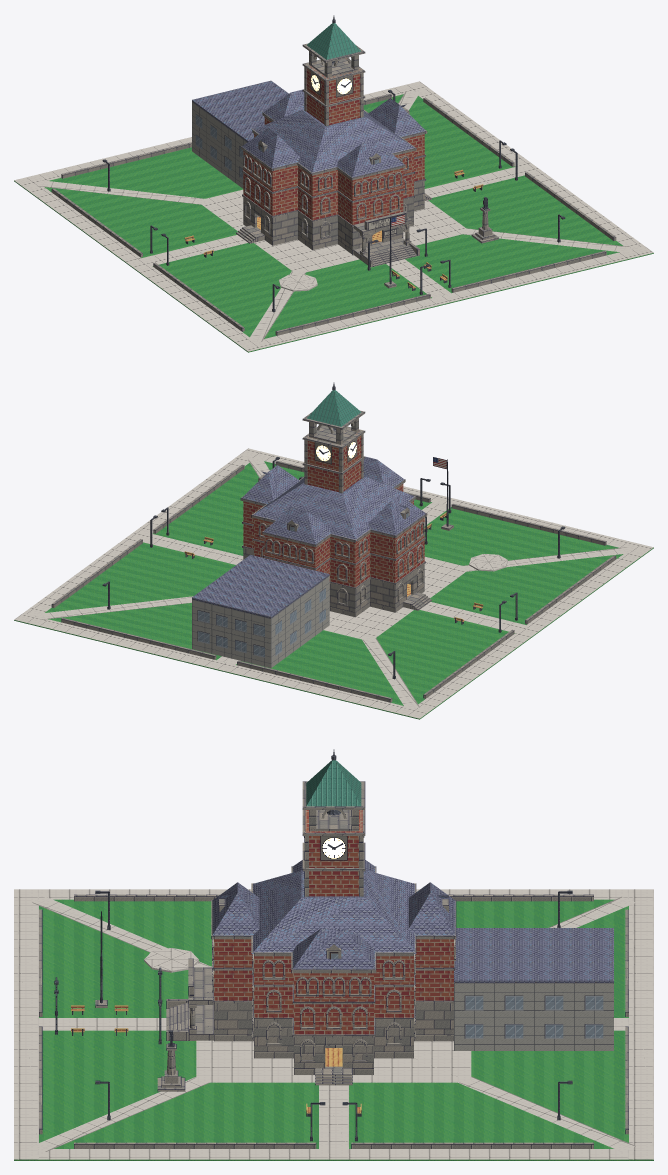
File: courthouse-1962.glb
3 renders of one model, top to bottom at view 1: azimuth 30°, elevation 25°; view 2: azimuth 150°, elevation 25°; view 3: azimuth 270°, elevation 25°, orthographic. The views are drawn at different scales.
Visible parts, largest first — view 1: lot_ground, structure, lot_extras, bandstand; view 2: lot_ground, structure, lot_extras, bandstand; view 3: lot_ground, structure, lot_extras, bandstand, memorial.
Boxes of the visible parts, x1,y1,x2,y2 form: lot_ground: (14,81,653,352); structure: (236,15,431,267); lot_extras: (192,80,288,188); bandstand: (279,274,317,291); lot_ground: (14,448,653,719); structure: (240,382,431,617); lot_extras: (192,554,329,668); bandstand: (469,554,507,571); lot_ground: (14,889,653,1160); structure: (166,749,456,1085); lot_extras: (454,928,613,1050); bandstand: (144,948,198,972); memorial: (157,1030,185,1091).
Size of what is drawn, in the model's own units: 79.46 by 38.02 by 79.46.
16 materials, 16 textured.
